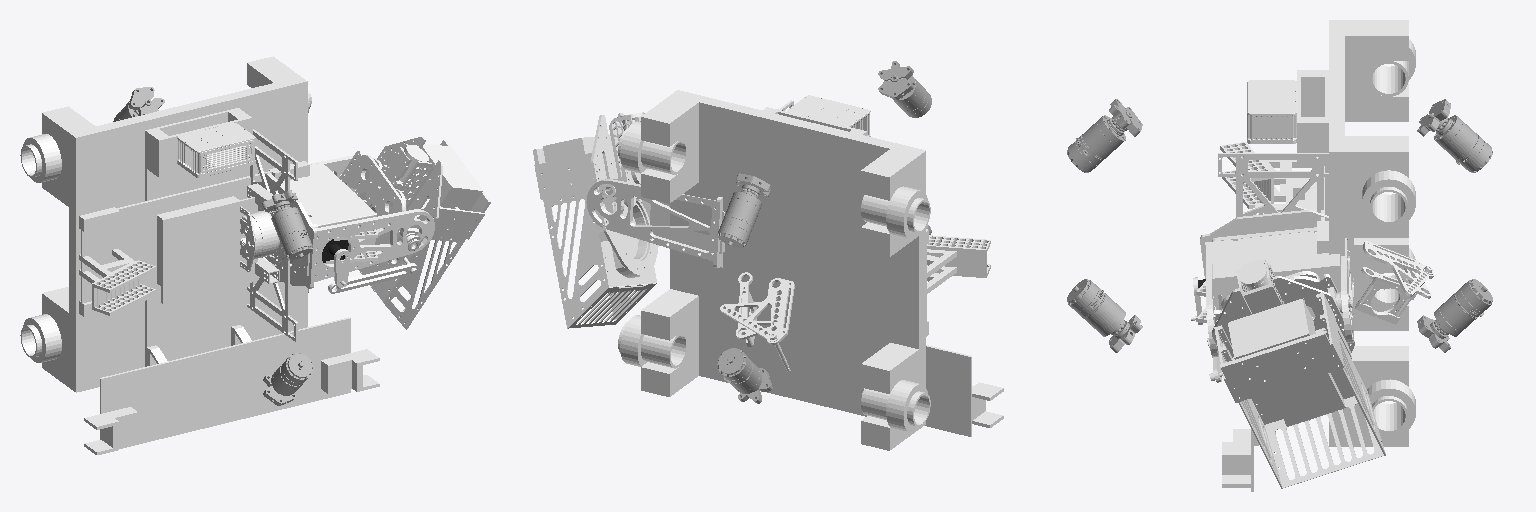
The robot description file, URDF, robot "urdf_v2":
<?xml version="1.0" encoding="utf-8"?>
<!-- This URDF was automatically created by SolidWorks to URDF Exporter! Originally created by Stephen Brawner (brawner@gmail.com) 
     Commit Version: 1.6.0-4-g7f85cfe  Build Version: 1.6.7995.38578
     For more information, please see http://wiki.ros.org/sw_urdf_exporter -->
<robot
  name="urdf_v2">
  <link
    name="base_link">
    <inertial>
      <origin
        xyz="0.0277127705482768 0.0182295243379867 -0.00175429701720209"
        rpy="0 0 0" />
      <mass
        value="3.58770629777807" />
      <inertia
        ixx="0.00734997641395761"
        ixy="-4.73869513637652E-05"
        ixz="-3.77402466362917E-05"
        iyy="0.00392389418652683"
        iyz="-8.5214458696391E-07"
        izz="0.00662990669332836" />
    </inertial>
    <visual>
      <origin
        xyz="0 0 0"
        rpy="0 0 0" />
      <geometry>
        <mesh
          filename="package://urdf_v2/meshes/base_link.STL" />
      </geometry>
      <material
        name="">
        <color
          rgba="1 1 1 1" />
      </material>
    </visual>
    <collision>
      <origin
        xyz="0 0 0"
        rpy="0 0 0" />
      <geometry>
        <mesh
          filename="package://urdf_v2/meshes/base_link.STL" />
      </geometry>
    </collision>
  </link>
  <link
    name="w 0">
    <inertial>
      <origin
        xyz="-0.0206456455717658 -0.0207540044863703 -4.2896244751494E-05"
        rpy="0 0 0" />
      <mass
        value="0.36608832072495" />
      <inertia
        ixx="0.000204834370693005"
        ixy="6.15124967644645E-05"
        ixz="-3.5129384117872E-07"
        iyy="0.00020492240812328"
        iyz="4.42281599225407E-07"
        izz="0.000142435328497823" />
    </inertial>
    <visual>
      <origin
        xyz="0 0 0"
        rpy="0 0 0" />
      <geometry>
        <mesh
          filename="package://urdf_v2/meshes/w 0.STL" />
      </geometry>
      <material
        name="">
        <color
          rgba="0.752941176470588 0.752941176470588 0.752941176470588 1" />
      </material>
    </visual>
    <collision>
      <origin
        xyz="0 0 0"
        rpy="0 0 0" />
      <geometry>
        <mesh
          filename="package://urdf_v2/meshes/w 0.STL" />
      </geometry>
    </collision>
  </link>
  <joint
    name="wojoint"
    type="continuous">
    <origin
      xyz="0.00364575766833166 0.172060894977632 0.172060894977629"
      rpy="3.14159265358979 -1.5707963267949 0" />
    <parent
      link="base_link" />
    <child
      link="w 0" />
    <axis
      xyz="0.707106781186545 0.70710678118655 0" />
  </joint>
  <link
    name="w 1">
    <inertial>
      <origin
        xyz="-0.0207540044784904 0.0206456455694293 -4.28962399794328E-05"
        rpy="0 0 0" />
      <mass
        value="0.366088320727298" />
      <inertia
        ixx="0.000204922408141684"
        ixy="-6.15124967798581E-05"
        ixz="4.42281604177855E-07"
        iyy="0.000204834370659289"
        iyz="3.51293816635325E-07"
        izz="0.00014243532851014" />
    </inertial>
    <visual>
      <origin
        xyz="0 0 0"
        rpy="0 0 0" />
      <geometry>
        <mesh
          filename="package://urdf_v2/meshes/w 1.STL" />
      </geometry>
      <material
        name="">
        <color
          rgba="0.752941176470588 0.752941176470588 0.752941176470588 1" />
      </material>
    </visual>
    <collision>
      <origin
        xyz="0 0 0"
        rpy="0 0 0" />
      <geometry>
        <mesh
          filename="package://urdf_v2/meshes/w 1.STL" />
      </geometry>
    </collision>
  </link>
  <joint
    name="w1joint"
    type="continuous">
    <origin
      xyz="0.00364575766833166 -0.172060894977629 0.172060894977632"
      rpy="3.14159265358979 -1.5707963267949 0" />
    <parent
      link="base_link" />
    <child
      link="w 1" />
    <axis
      xyz="0.707106781186546 -0.707106781186549 0" />
  </joint>
  <link
    name="w 2">
    <inertial>
      <origin
        xyz="0.0206456454876343 0.0207540043832628 -4.28962341049825E-05"
        rpy="0 0 0" />
      <mass
        value="0.366088320169113" />
      <inertia
        ixx="0.000204834370519221"
        ixy="6.1512496775434E-05"
        ixz="3.5129382710272E-07"
        iyy="0.000204922408078621"
        iyz="-4.42281646501003E-07"
        izz="0.000142435328366272" />
    </inertial>
    <visual>
      <origin
        xyz="0 0 0"
        rpy="0 0 0" />
      <geometry>
        <mesh
          filename="package://urdf_v2/meshes/w 2.STL" />
      </geometry>
      <material
        name="">
        <color
          rgba="0.752941176470588 0.752941176470588 0.752941176470588 1" />
      </material>
    </visual>
    <collision>
      <origin
        xyz="0 0 0"
        rpy="0 0 0" />
      <geometry>
        <mesh
          filename="package://urdf_v2/meshes/w 2.STL" />
      </geometry>
    </collision>
  </link>
  <joint
    name="w2joint"
    type="continuous">
    <origin
      xyz="0.00364575766833366 -0.172060894977632 -0.17206089497763"
      rpy="3.14159265358979 -1.5707963267949 0" />
    <parent
      link="base_link" />
    <child
      link="w 2" />
    <axis
      xyz="-0.70710678118655 -0.707106781186545 0" />
  </joint>
  <link
    name="w 3">
    <inertial>
      <origin
        xyz="0.0207540044491888 -0.0206456455502998 -4.28962343937273E-05"
        rpy="0 0 0" />
      <mass
        value="0.366088320566327" />
      <inertia
        ixx="0.000204922408147887"
        ixy="-6.15124967696277E-05"
        ixz="-4.42281633118669E-07"
        iyy="0.0002048343706123"
        iyz="-3.51293812968162E-07"
        izz="0.000142435328455473" />
    </inertial>
    <visual>
      <origin
        xyz="0 0 0"
        rpy="0 0 0" />
      <geometry>
        <mesh
          filename="package://urdf_v2/meshes/w 3.STL" />
      </geometry>
      <material
        name="">
        <color
          rgba="0.752941176470588 0.752941176470588 0.752941176470588 1" />
      </material>
    </visual>
    <collision>
      <origin
        xyz="0 0 0"
        rpy="0 0 0" />
      <geometry>
        <mesh
          filename="package://urdf_v2/meshes/w 3.STL" />
      </geometry>
    </collision>
  </link>
  <joint
    name="w3joint"
    type="continuous">
    <origin
      xyz="0.00364575766833166 0.17206089497763 -0.172060894977631"
      rpy="3.14159265358979 -1.5707963267949 0" />
    <parent
      link="base_link" />
    <child
      link="w 3" />
    <axis
      xyz="-0.707106781186542 0.707106781186553 0" />
  </joint>
  <link
    name="yaw">
    <inertial>
      <origin
        xyz="0.140842550671345 -0.000589227103042586 -0.000104829761398917"
        rpy="0 0 0" />
      <mass
        value="0.883658426613258" />
      <inertia
        ixx="0.00270809171358488"
        ixy="2.22795485506688E-05"
        ixz="-2.42952454253992E-06"
        iyy="0.00206248069839823"
        iyz="-5.73528912951601E-05"
        izz="0.00213024726017061" />
    </inertial>
    <visual>
      <origin
        xyz="0 0 0"
        rpy="0 0 0" />
      <geometry>
        <mesh
          filename="package://urdf_v2/meshes/yaw.STL" />
      </geometry>
      <material
        name="">
        <color
          rgba="1 1 1 1" />
      </material>
    </visual>
    <collision>
      <origin
        xyz="0 0 0"
        rpy="0 0 0" />
      <geometry>
        <mesh
          filename="package://urdf_v2/meshes/yaw.STL" />
      </geometry>
    </collision>
  </link>
  <joint
    name="yawjoint"
    type="continuous">
    <origin
      xyz="0 0 0"
      rpy="0 0 0" />
    <parent
      link="base_link" />
    <child
      link="yaw" />
    <axis
      xyz="-1 0 0" />
  </joint>
  <link
    name="6020ph">
    <inertial>
      <origin
        xyz="0.000149923407371189 -0.0594954214803141 0.131079721956733"
        rpy="0 0 0" />
      <mass
        value="0.202753353111405" />
      <inertia
        ixx="7.05518989865931E-05"
        ixy="4.13980200765987E-07"
        ixz="5.09337178224181E-07"
        iyy="0.000105949366714192"
        iyz="2.53202874010532E-07"
        izz="6.9955503617746E-05" />
    </inertial>
    <visual>
      <origin
        xyz="0 0 0"
        rpy="0 0 0" />
      <geometry>
        <mesh
          filename="package://urdf_v2/meshes/6020ph.STL" />
      </geometry>
      <material
        name="">
        <color
          rgba="0.2 0.2 0.2 1" />
      </material>
    </visual>
    <collision>
      <origin
        xyz="0 0 0"
        rpy="0 0 0" />
      <geometry>
        <mesh
          filename="package://urdf_v2/meshes/6020ph.STL" />
      </geometry>
    </collision>
  </link>
  <joint
    name="6020jo"
    type="fixed">
    <origin
      xyz="0.29099999999999 0 0"
      rpy="1.57079632679489 -1.45637854289684 -1.5707963267949" />
    <parent
      link="base_link" />
    <child
      link="6020ph" />
    <axis
      xyz="0 0 0" />
  </joint>
  <link
    name="jo1">
    <inertial>
      <origin
        xyz="-0.0224736840795326 -0.104819232702008 0.130083538014049"
        rpy="0 0 0" />
      <mass
        value="0.00832338785477166" />
      <inertia
        ixx="3.66389436167438E-07"
        ixy="-3.86194084388758E-20"
        ixz="-6.68555998045919E-08"
        iyy="2.22748343163581E-06"
        iyz="5.54109392691755E-22"
        izz="2.0031109551508E-06" />
    </inertial>
    <visual>
      <origin
        xyz="0 0 0"
        rpy="0 0 0" />
      <geometry>
        <mesh
          filename="package://urdf_v2/meshes/jo1.STL" />
      </geometry>
      <material
        name="">
        <color
          rgba="1 1 1 1" />
      </material>
    </visual>
    <collision>
      <origin
        xyz="0 0 0"
        rpy="0 0 0" />
      <geometry>
        <mesh
          filename="package://urdf_v2/meshes/jo1.STL" />
      </geometry>
    </collision>
  </link>
  <joint
    name="jo1"
    type="fixed">
    <origin
      xyz="0 0 0"
      rpy="0 0 0" />
    <parent
      link="6020ph" />
    <child
      link="jo1" />
    <axis
      xyz="0 0 0" />
  </joint>
  <link
    name="jo2">
    <inertial>
      <origin
        xyz="0.237814427580564 -0.0923418095396846 -0.0528534990100229"
        rpy="0 0 0" />
      <mass
        value="0.0122847021612473" />
      <inertia
        ixx="6.72583783018631E-07"
        ixy="-1.08734965400134E-12"
        ixz="9.46182024000909E-12"
        iyy="2.00485138026059E-05"
        iyz="1.44285220243744E-08"
        izz="1.9924618857251E-05" />
    </inertial>
    <visual>
      <origin
        xyz="0 0 0"
        rpy="0 0 0" />
      <geometry>
        <mesh
          filename="package://urdf_v2/meshes/jo2.STL" />
      </geometry>
      <material
        name="">
        <color
          rgba="1 1 1 1" />
      </material>
    </visual>
    <collision>
      <origin
        xyz="0 0 0"
        rpy="0 0 0" />
      <geometry>
        <mesh
          filename="package://urdf_v2/meshes/jo2.STL" />
      </geometry>
    </collision>
  </link>
  <joint
    name="jo2"
    type="fixed">
    <origin
      xyz="0 0 0.29099999999999"
      rpy="0.114417783898057 1.5707963267949 0" />
    <parent
      link="jo1" />
    <child
      link="jo2" />
    <axis
      xyz="0 0 0" />
  </joint>
  <link
    name="jo3">
    <inertial>
      <origin
        xyz="0.328545033349333 0.00455286359901219 -0.0127148027247921"
        rpy="0 0 0" />
      <mass
        value="0.939618747176194" />
      <inertia
        ixx="0.00154440281800847"
        ixy="2.75217398165844E-05"
        ixz="-0.000216260520528716"
        iyy="0.000954659185540112"
        iyz="-9.94086884784989E-06"
        izz="0.0010967634653767" />
    </inertial>
    <visual>
      <origin
        xyz="0 0 0"
        rpy="0 0 0" />
      <geometry>
        <mesh
          filename="package://urdf_v2/meshes/jo3.STL" />
      </geometry>
      <material
        name="">
        <color
          rgba="1 1 1 1" />
      </material>
    </visual>
    <collision>
      <origin
        xyz="0 0 0"
        rpy="0 0 0" />
      <geometry>
        <mesh
          filename="package://urdf_v2/meshes/jo3.STL" />
      </geometry>
    </collision>
  </link>
  <joint
    name="jo3"
    type="fixed">
    <origin
      xyz="0 0 0"
      rpy="0 0 0" />
    <parent
      link="jo2" />
    <child
      link="jo3" />
    <axis
      xyz="0 0 0" />
  </joint>
</robot>

--- What the picture shows (computed from the rendered views, not written in the file) ---
The picture shows the robot from 3 angles, left to right: view 1: azimuth 30°, elevation 25°; view 2: azimuth 150°, elevation 25°; view 3: azimuth 270°, elevation 25°; orthographic projection.
Model urdf_v2 with 10 links and 9 joints (5 continuous, 4 fixed), rooted at base_link, posed all joints at 0.
Links seen in each view (by area): view 1: base_link, yaw, jo3, w 1, w 2, jo2, w 0; view 2: base_link, jo3, yaw, w 0, w 3, w 1; view 3: base_link, jo3, yaw, w 3, w 0, w 1, w 2.
Link boxes in pixels (bbox=[...]): base_link: bbox=[20, 56, 379, 454]; yaw: bbox=[240, 129, 434, 341]; jo3: bbox=[339, 137, 490, 329]; w 1: bbox=[262, 190, 312, 259]; w 2: bbox=[263, 353, 312, 405]; jo2: bbox=[328, 257, 417, 293]; w 0: bbox=[113, 87, 164, 121]; base_link: bbox=[618, 90, 1003, 450]; jo3: bbox=[533, 112, 794, 371]; yaw: bbox=[586, 100, 793, 267]; w 0: bbox=[717, 173, 770, 247]; w 3: bbox=[717, 348, 772, 403]; w 1: bbox=[878, 61, 931, 117]; base_link: bbox=[1196, 20, 1415, 491]; jo3: bbox=[1207, 241, 1433, 488]; yaw: bbox=[1200, 153, 1359, 357]; w 3: bbox=[1417, 279, 1492, 352]; w 0: bbox=[1417, 99, 1492, 172]; w 1: bbox=[1067, 99, 1142, 172]; w 2: bbox=[1067, 279, 1142, 352].
Bounding box of the posed robot: 0.6636 × 0.5356 × 0.4645 m (x, y, z).
Meshes: 10 distinct files referenced, 10 mesh visuals loaded (10 binary STL).
